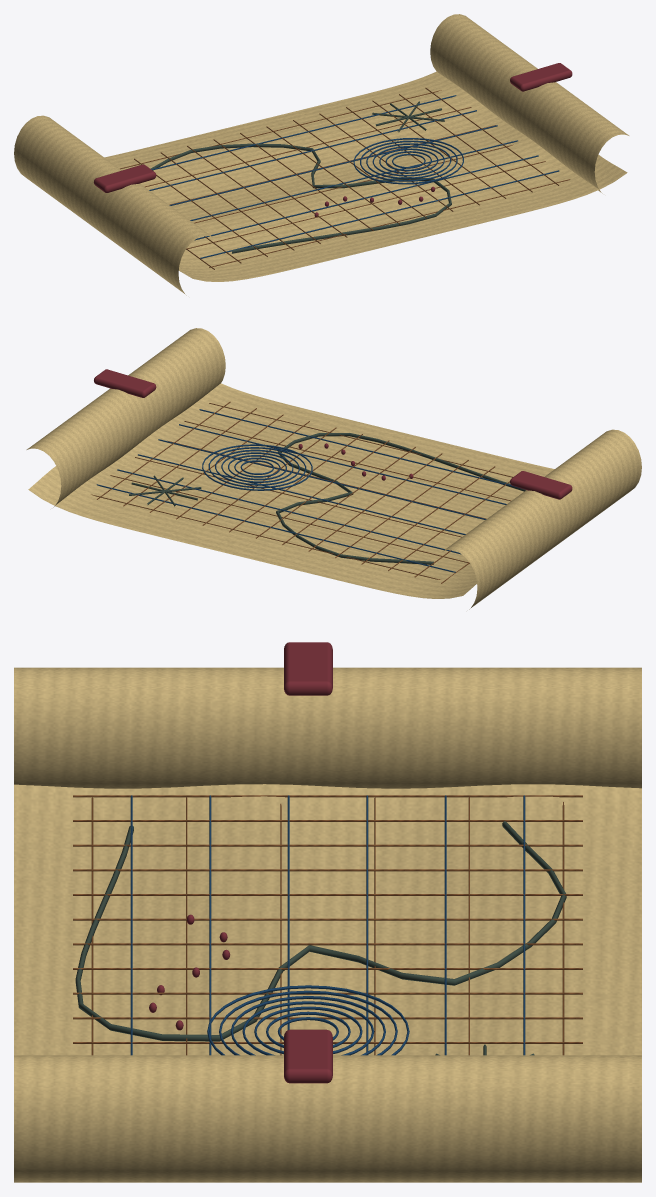
File: nautical-chart.glb
3 renders of one model, top to bottom at view 1: azimuth 30°, elevation 25°; view 2: azimuth 150°, elevation 25°; view 3: azimuth 270°, elevation 25°, orthographic. The views are drawn at different scales.
Visible parts, largest first — view 1: nautical-chart; view 2: nautical-chart; view 3: nautical-chart.
Boxes of the visible parts, box(x1,y1,x2,y2) form: nautical-chart: box(14, 14, 629, 295); nautical-chart: box(26, 328, 641, 609); nautical-chart: box(14, 642, 641, 1182).
Size of the model in its own units: 0.46 by 0.065 by 0.28.
6 materials, 3 textured.
